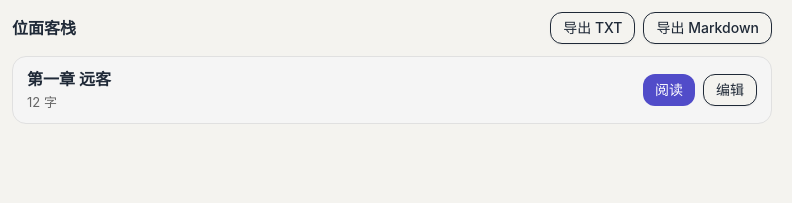
Scenario: ManuscriptPanel › 导出成功 → 触发浏览器下载并告知文件名；导出失败给出错误
This screenshot has width=792, height=203.
Click the button "导出 TXT". click: (593, 28)
box: [550,12,636,44]
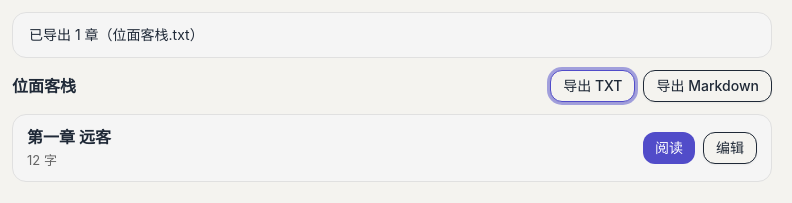
Expected: the text "已导出 1 章（位面客栈.txt）" is shown, [12,12,772,58]
Click the button "导出 Markdown". click: (708, 86)
box: [644,70,772,102]
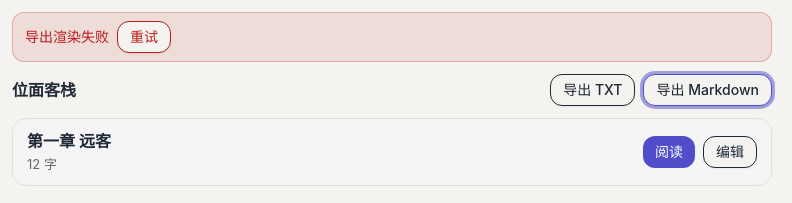
Expected: the message "导出渲染失败 重试" is shown, [12,12,772,62]
